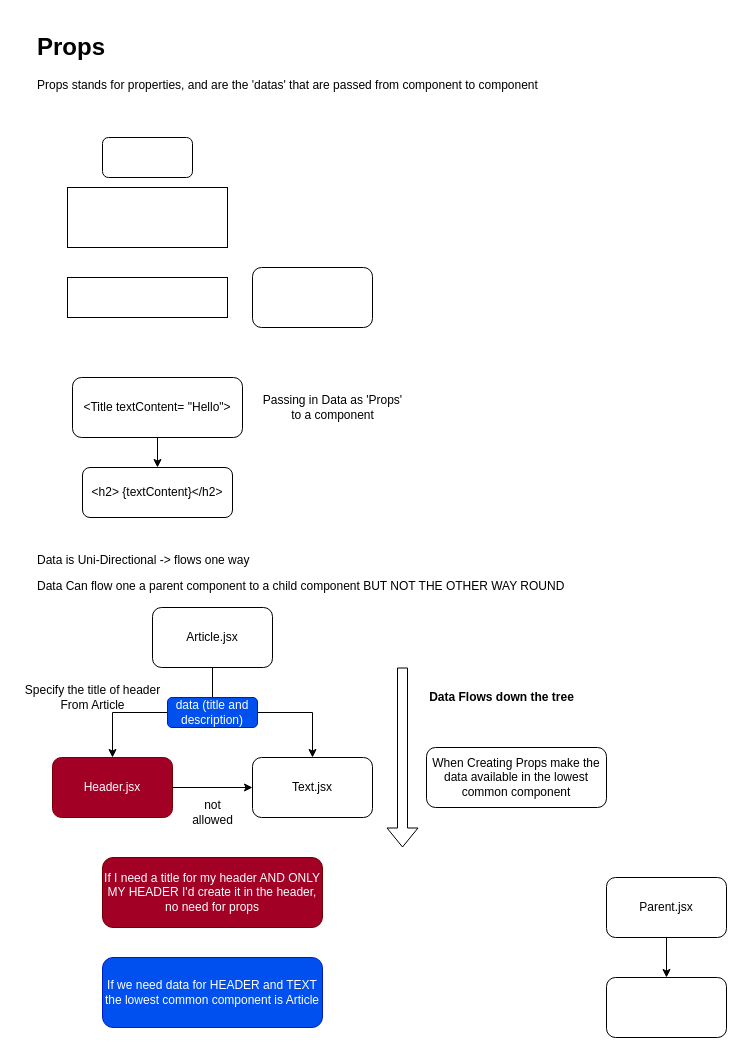
Some shapes in this 744 by 1055 pixel diagram are drawn without their labels. Here are the shapes that lost their labels. From the top down, the centre of each, then its label:
the point at 147,157: X and Y are arguments
the point at 147,217: let addSum = (x, y) => { return x + y; }
the point at 147,297: addSum(5,4); -> 5 + 4 = 9
the point at 312,297: In terms of React 5 and 4 are: props
the point at 666,1007: Child.jsx
